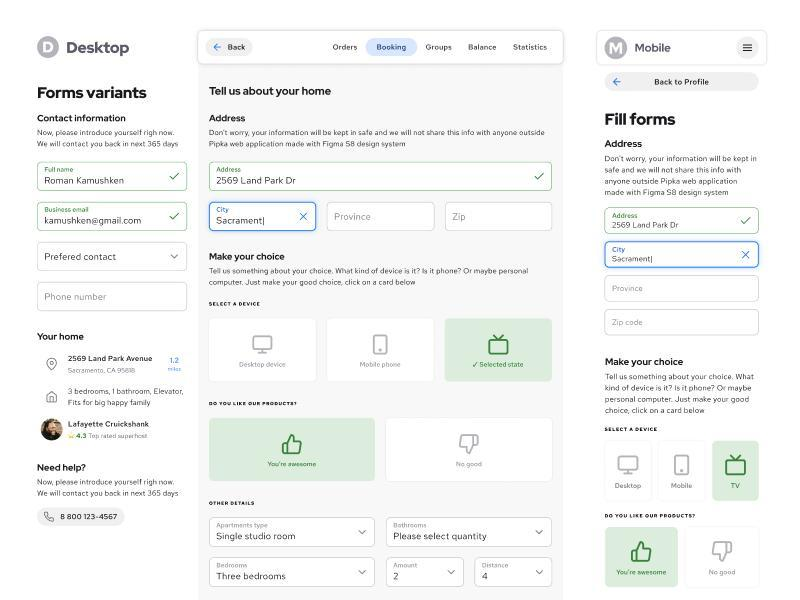button: (606, 72, 760, 95), (36, 507, 128, 528), (367, 39, 419, 59), (208, 40, 252, 57)
dropdown: (389, 517, 552, 548), (212, 518, 374, 549), (210, 559, 375, 587), (40, 243, 188, 270), (388, 559, 466, 589), (478, 559, 551, 587)
icon: (724, 452, 751, 480), (629, 539, 656, 566), (279, 433, 306, 458), (487, 333, 513, 358), (616, 453, 642, 478), (710, 539, 734, 566), (457, 432, 482, 457), (250, 334, 276, 358), (673, 453, 692, 480), (372, 333, 391, 357), (45, 392, 63, 406), (46, 356, 60, 373), (742, 43, 755, 55)
input: (212, 163, 552, 191), (37, 203, 190, 232), (39, 283, 189, 312), (604, 310, 759, 337), (608, 208, 760, 235), (606, 244, 760, 270), (605, 276, 758, 302), (37, 165, 187, 190), (209, 202, 317, 232), (448, 202, 553, 231), (330, 205, 435, 229)
label: (38, 83, 150, 104), (210, 84, 335, 101), (208, 395, 302, 411), (33, 112, 130, 127), (207, 247, 290, 262), (605, 512, 700, 525), (605, 357, 686, 370), (37, 328, 90, 347), (602, 420, 661, 435), (35, 464, 92, 477), (207, 497, 263, 510), (208, 112, 251, 126), (209, 300, 267, 310), (604, 140, 652, 152), (512, 42, 552, 55), (332, 40, 362, 55), (45, 206, 95, 215), (467, 42, 498, 55), (422, 43, 455, 53), (213, 165, 242, 175), (45, 165, 75, 174), (215, 205, 232, 213)
